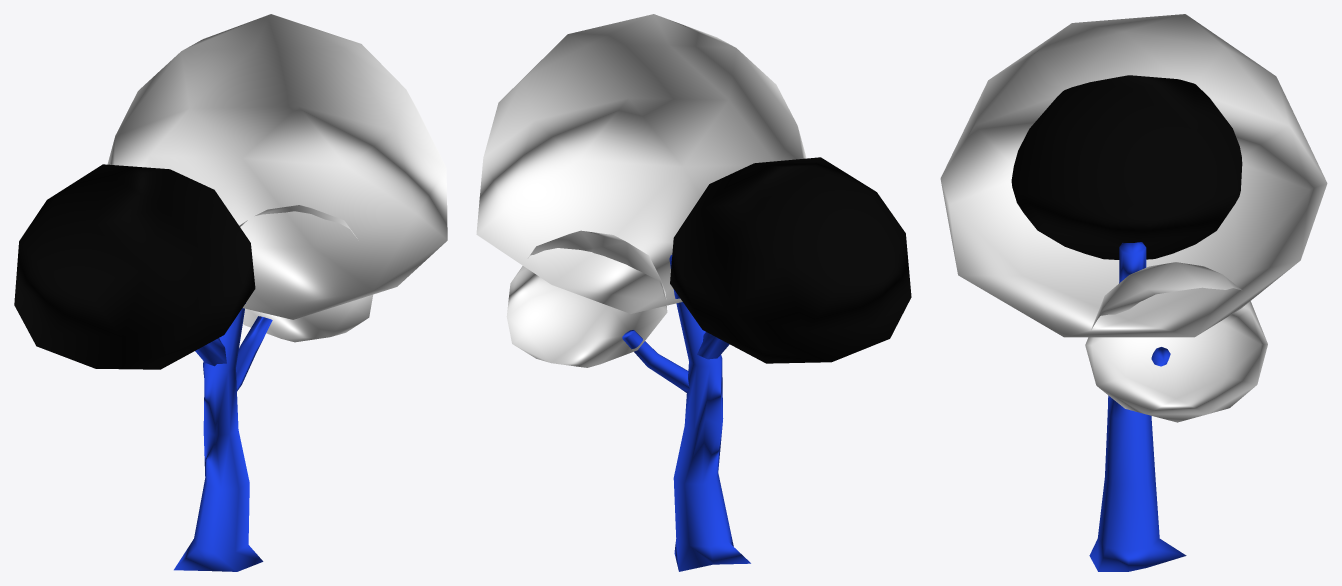
File: tree_1_smooth.glb
The picture shows the model from 3 angles, left to right: view 1: azimuth 30°, elevation 25°; view 2: azimuth 150°, elevation 25°; view 3: azimuth 270°, elevation 25°; orthographic projection. The views are drawn at different scales.
Parts seen in each view (by area): view 1: Icosphere, Icosphere001, Cylinder, Icosphere002; view 2: Icosphere, Icosphere001, Cylinder, Icosphere002; view 3: Icosphere, Icosphere001, Icosphere002, Cylinder.
Boxes of the visible parts, x1=… form: Icosphere: x1=107, y1=14, x2=447, y2=319; Icosphere001: x1=14, y1=164, x2=255, y2=369; Cylinder: x1=174, y1=303, x2=272, y2=571; Icosphere002: x1=239, y1=205, x2=372, y2=342; Icosphere: x1=476, y1=14, x2=806, y2=313; Icosphere001: x1=670, y1=157, x2=911, y2=363; Cylinder: x1=622, y1=255, x2=750, y2=571; Icosphere002: x1=506, y1=230, x2=667, y2=367; Icosphere: x1=940, y1=14, x2=1327, y2=337; Icosphere001: x1=1011, y1=75, x2=1242, y2=259; Icosphere002: x1=1085, y1=262, x2=1267, y2=422; Cylinder: x1=1089, y1=242, x2=1186, y2=571.
Bounding box in the file's own units: 8.38 × 10.56 × 6.64.
